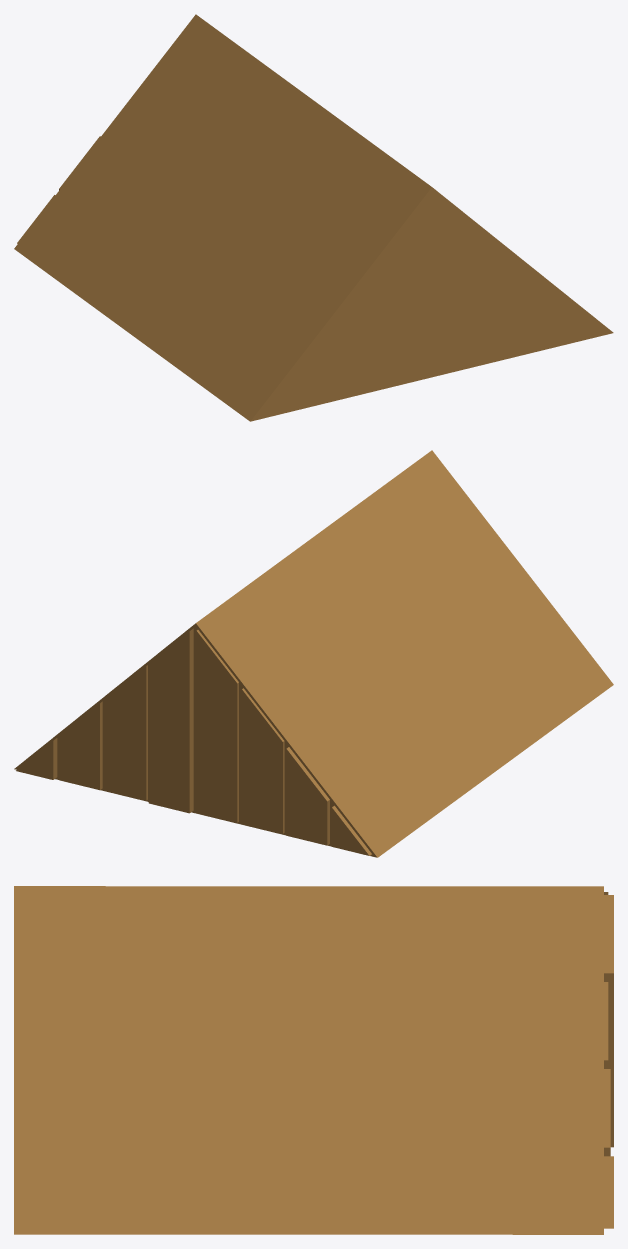
File: house_04.FBX
3 renders of one model, top to bottom at view 1: azimuth 30°, elevation 25°; view 2: azimuth 150°, elevation 25°; view 3: azimuth 270°, elevation 25°, orthographic. The views are drawn at different scales.
Visible parts, largest first — view 1: Box006; view 2: Box006; view 3: Box006.
Boxes of the visible parts, x1,y1,x2,y2 form: Box006: (14,14,613,421); Box006: (14,450,613,857); Box006: (14,886,613,1234).
Size of the model in its own units: 84.07 by 42.06 by 96.16.
Materials: 1 (1 with a texture image).
